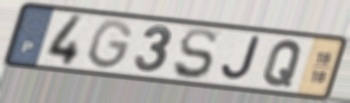3: (133, 23, 174, 75)
4: (44, 12, 86, 68)
G: (86, 17, 135, 71)
J: (219, 34, 262, 84)
Q: (261, 38, 305, 89)
S: (170, 27, 219, 82)
